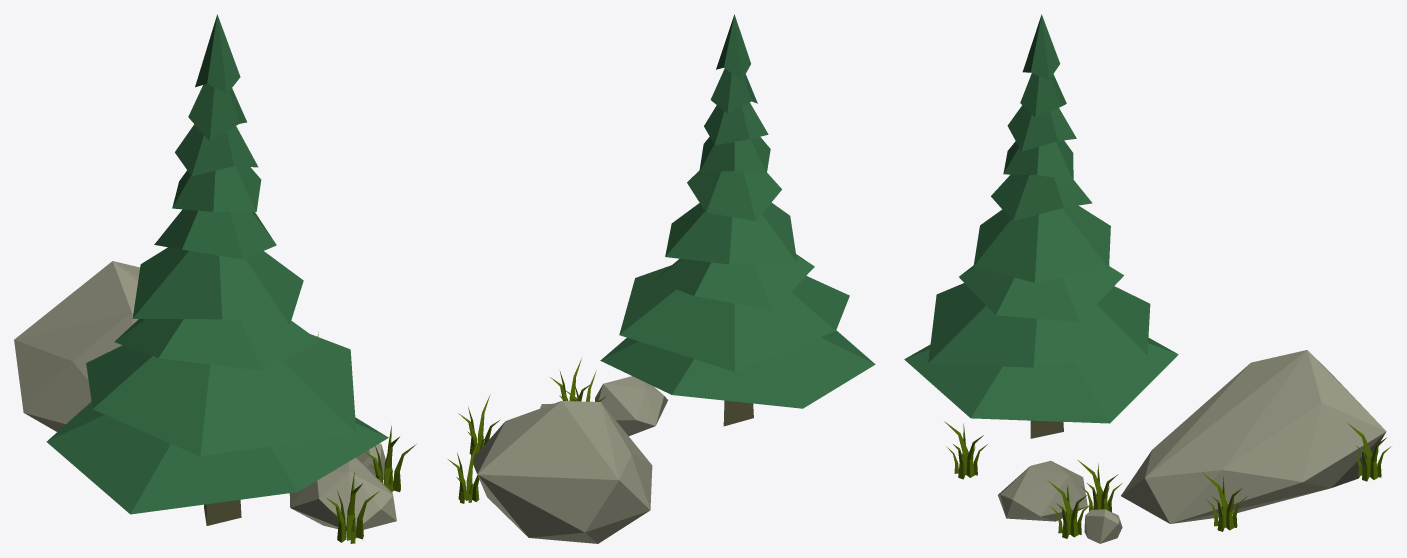
The model's file is testScene.glb.
3 renders of one model, left to right at view 1: azimuth 30°, elevation 25°; view 2: azimuth 150°, elevation 25°; view 3: azimuth 270°, elevation 25°, orthographic. The views are drawn at different scales.
Visible parts, largest first — view 1: stone_lg; view 2: stone_lg; view 3: stone_lg.
Boxes of the visible parts, box(x1,y1,x2,y2) form: stone_lg: box(14, 14, 416, 543); stone_lg: box(448, 14, 875, 543); stone_lg: box(904, 14, 1391, 543).
Size of the model in its own units: 3.49 by 5.03 by 4.93.
